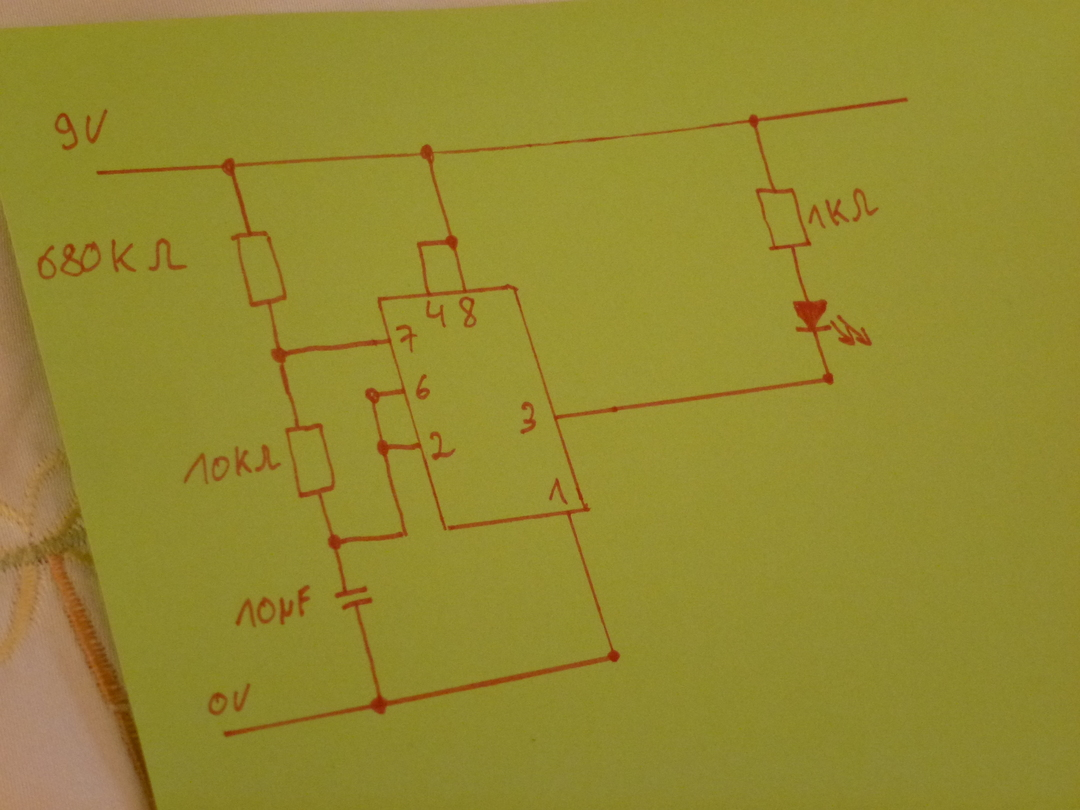capacitor.unpolarized: (333, 584, 375, 613)
diode.light_emitting: (791, 299, 875, 348)
integrated_cricuit.ne555: (377, 283, 591, 533)
junction: (369, 694, 391, 716), (269, 345, 291, 365), (418, 142, 437, 164), (220, 156, 239, 178), (325, 532, 345, 552), (363, 385, 382, 405), (443, 233, 461, 252), (605, 647, 622, 666), (375, 438, 391, 456), (747, 112, 762, 130), (820, 371, 836, 387), (397, 528, 412, 541), (414, 238, 427, 251)
resistor: (230, 229, 289, 309), (284, 421, 337, 500), (755, 185, 813, 252)
terminal: (890, 92, 914, 109), (219, 727, 234, 742), (92, 166, 107, 180)
text: (36, 237, 189, 281), (182, 442, 282, 487), (234, 583, 313, 629), (808, 186, 881, 230), (53, 106, 109, 152), (205, 682, 252, 716), (428, 429, 456, 461), (456, 295, 479, 329), (395, 323, 419, 354), (424, 299, 447, 329), (547, 477, 570, 506), (519, 401, 538, 435), (414, 373, 433, 401)
